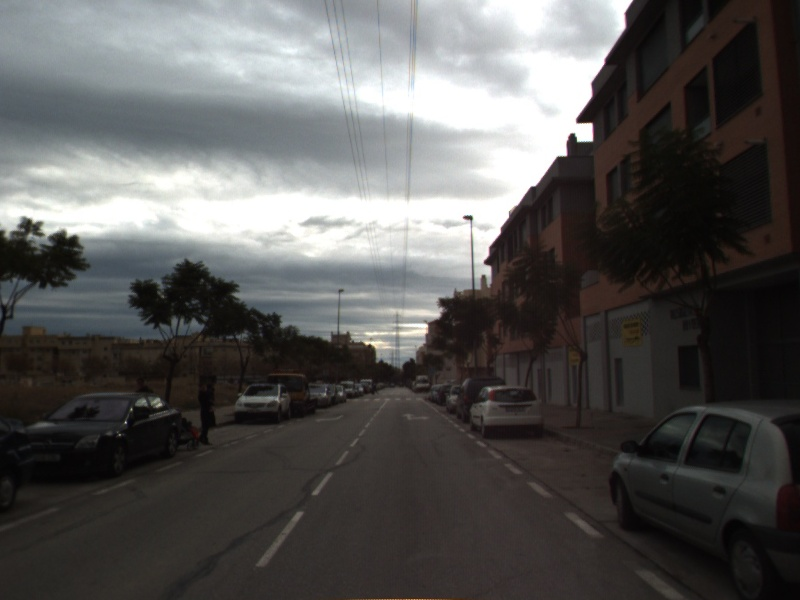STRAIGHT_RIGHT: (400, 411, 432, 423)
